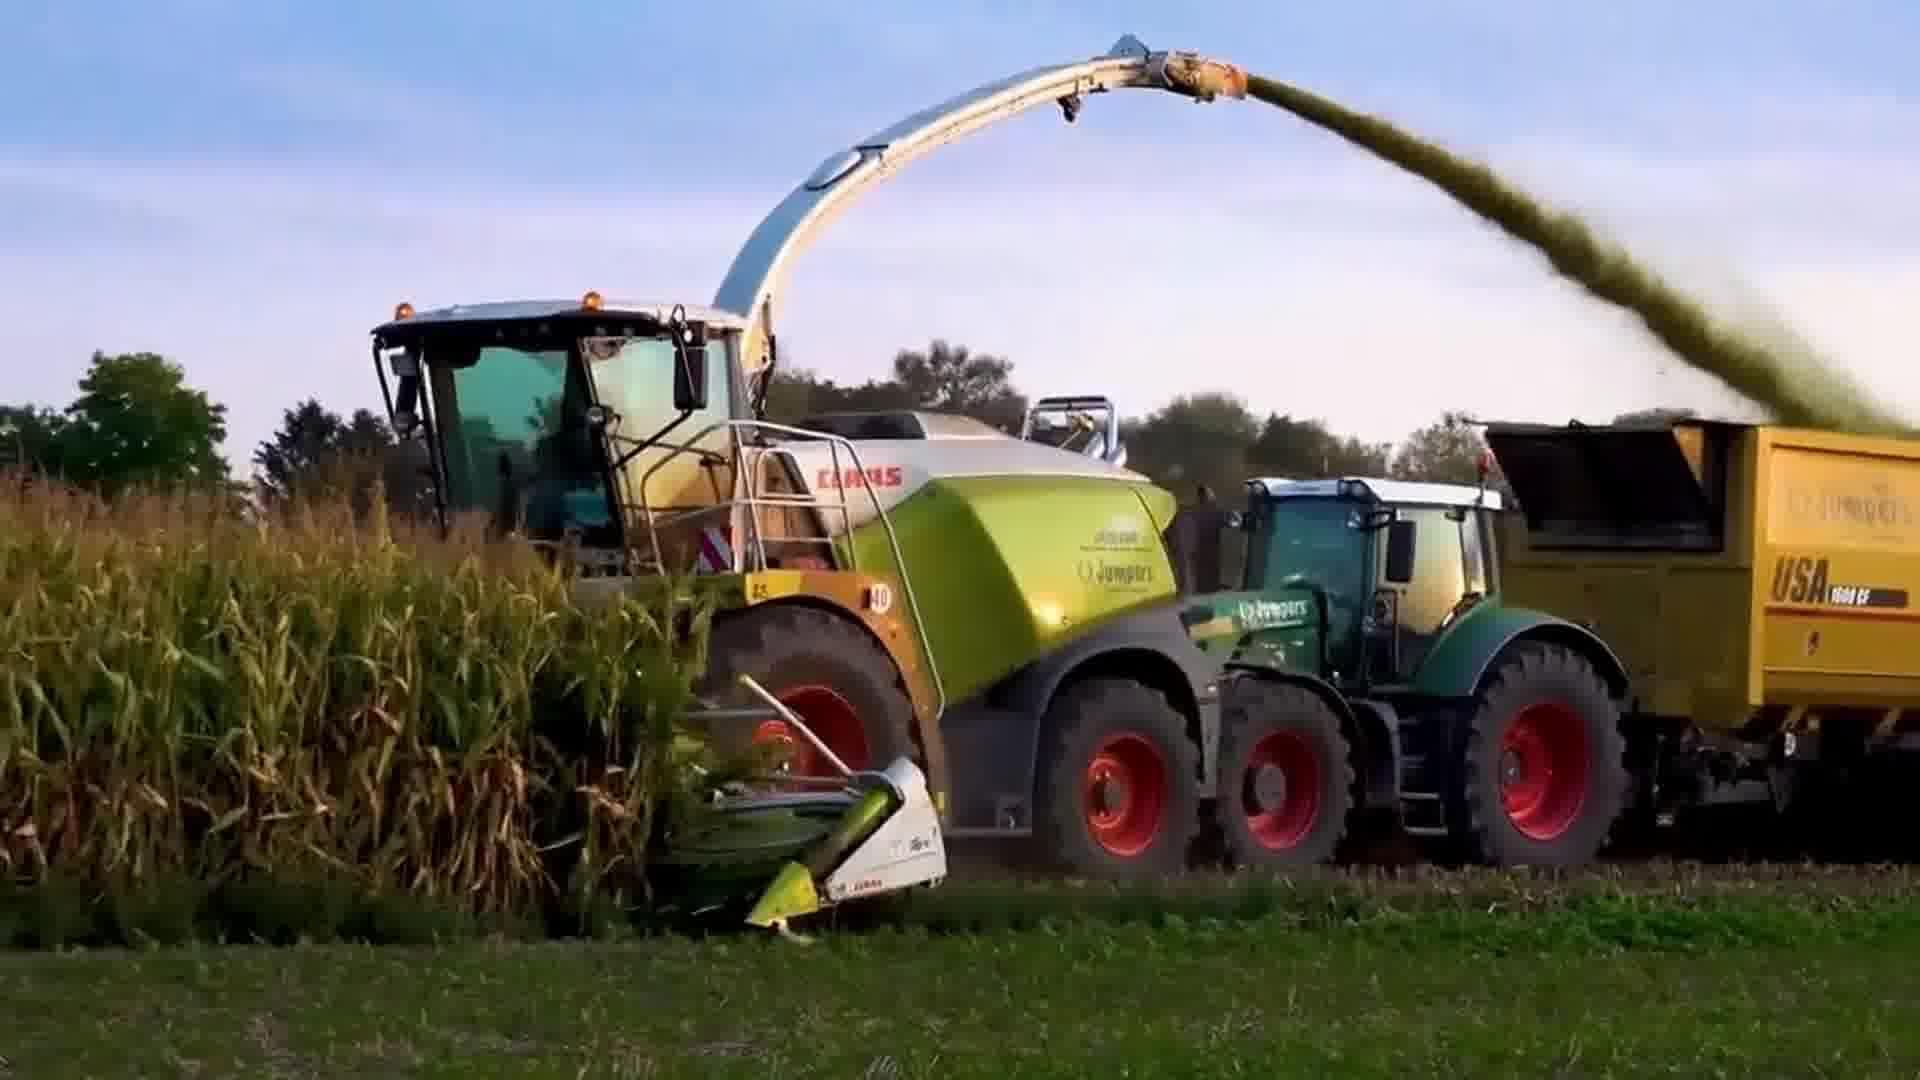combine harvester: (364, 23, 1263, 970)
tractor: (1160, 457, 1643, 911)
trailer: (1474, 406, 1920, 867)
